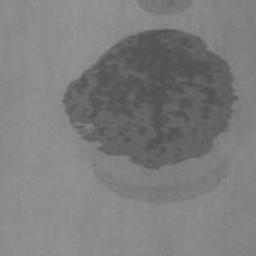Oil spot: (61, 28, 238, 170), (90, 155, 232, 204), (138, 0, 192, 17)
